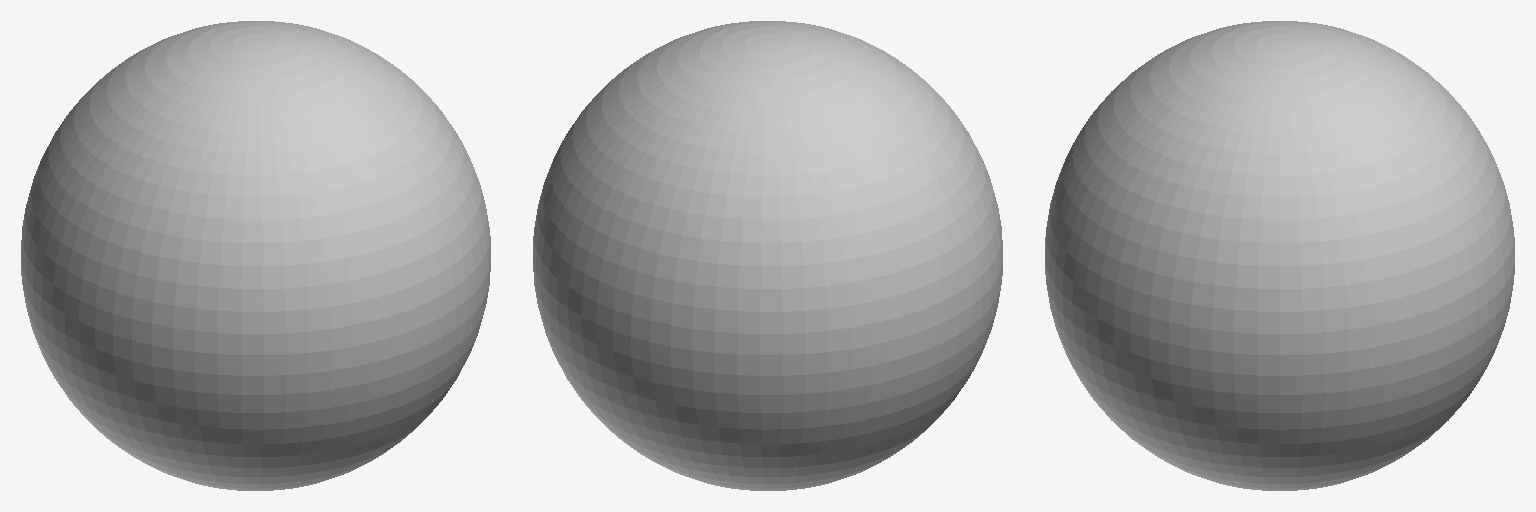
The model's file is mars.obj.
3 views of the same model, side by side, from view 1: azimuth 30°, elevation 25°; view 2: azimuth 150°, elevation 25°; view 3: azimuth 270°, elevation 25° (orthographic).
Visible parts, largest first — view 1: Esfera_UV; view 2: Esfera_UV; view 3: Esfera_UV.
Boxes of the visible parts, box(x1,y1,x2,y2) form: Esfera_UV: box(21, 21, 490, 490); Esfera_UV: box(533, 21, 1002, 490); Esfera_UV: box(1045, 21, 1514, 490).
Bounding box in the file's own units: 1.06 × 1.06 × 1.06.